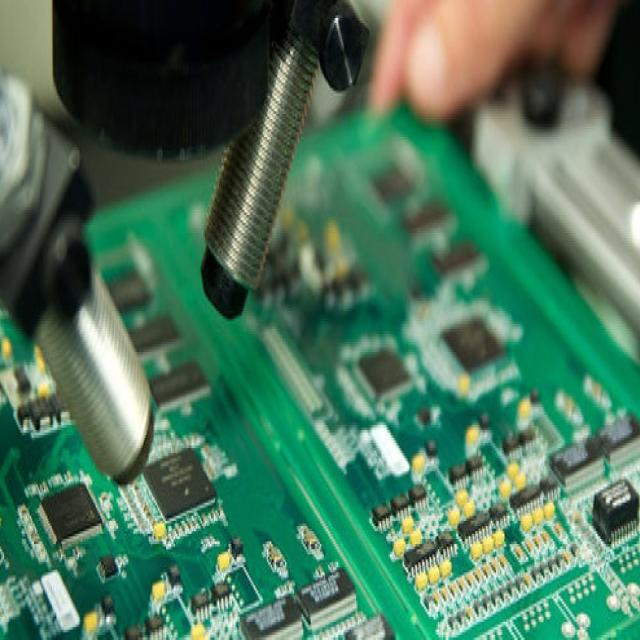pcb: (1, 85, 638, 638), (592, 476, 639, 544)
